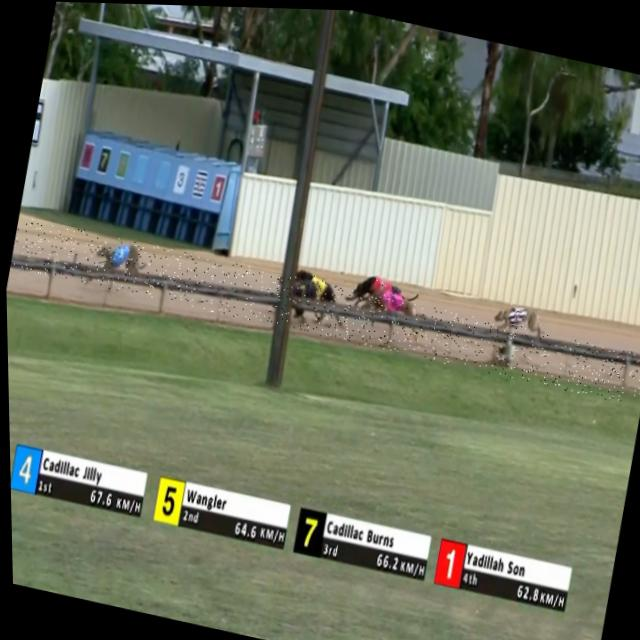dog_eight: (383, 288, 405, 313)
dog_five: (307, 273, 326, 301)
dog_four: (109, 243, 129, 270)
dog_one: (371, 274, 390, 299)
dog_seven: (294, 280, 307, 301)
dog_two: (505, 300, 526, 333)
rail: (9, 253, 640, 364)
